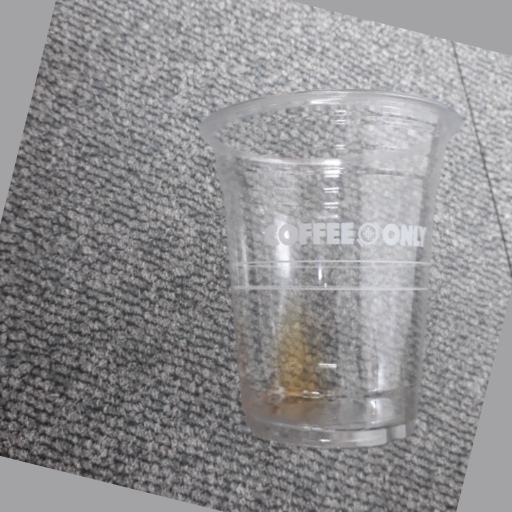Plastic_2: (198, 88, 460, 452)
